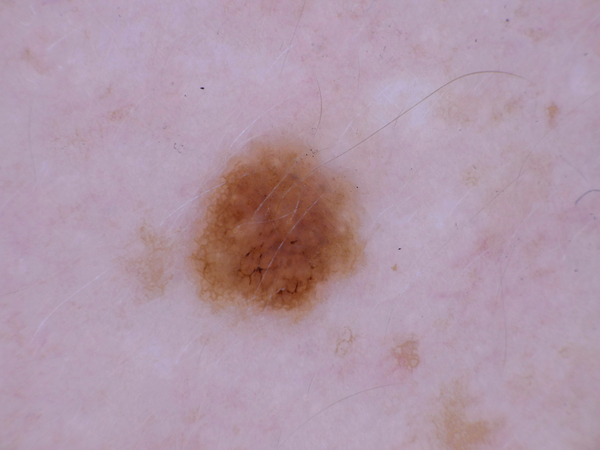Detected Lesion: (186, 128, 366, 331)
